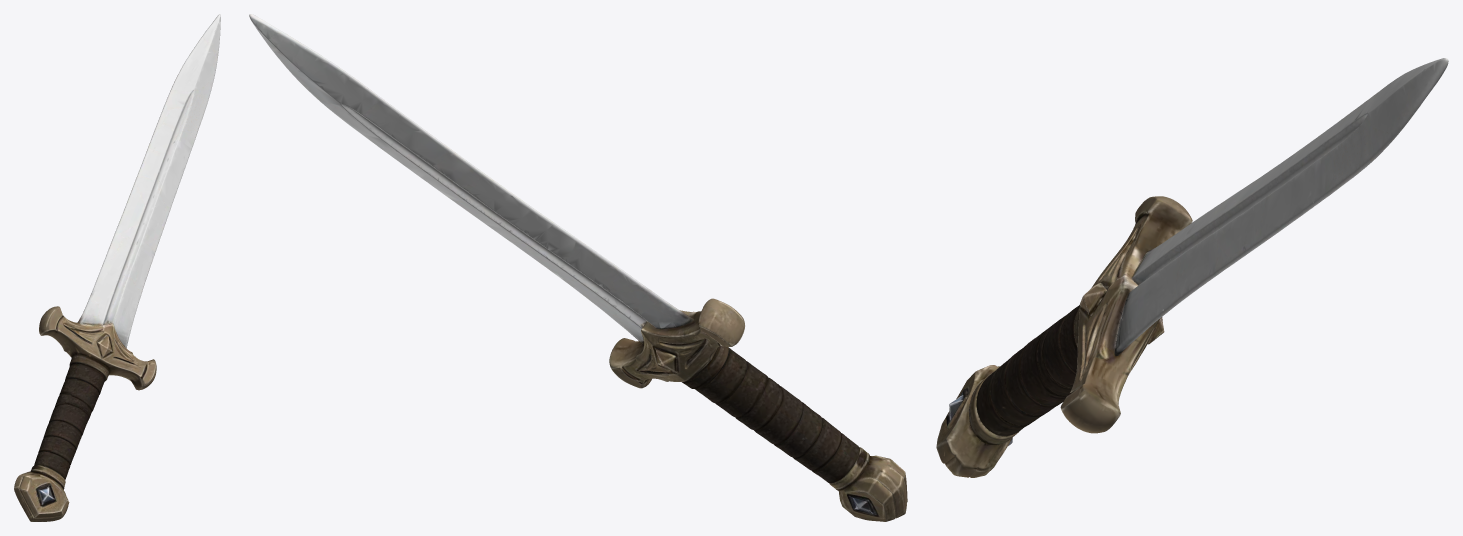
Rendered from short-sword.glb.
The picture shows the model from 3 angles, left to right: view 1: azimuth 30°, elevation 25°; view 2: azimuth 150°, elevation 25°; view 3: azimuth 270°, elevation 25°; orthographic projection. The views are drawn at different scales.
Parts seen in each view (by area): view 1: node_0; view 2: node_0; view 3: node_0.
Part boxes in pixels (x1,y1,x2,y2): node_0: [14, 14, 220, 521]; node_0: [249, 14, 907, 521]; node_0: [936, 58, 1448, 477].
Size of the model in its own units: 0.7491 by 0.7819 by 0.5221.
1 material, 1 textured.
